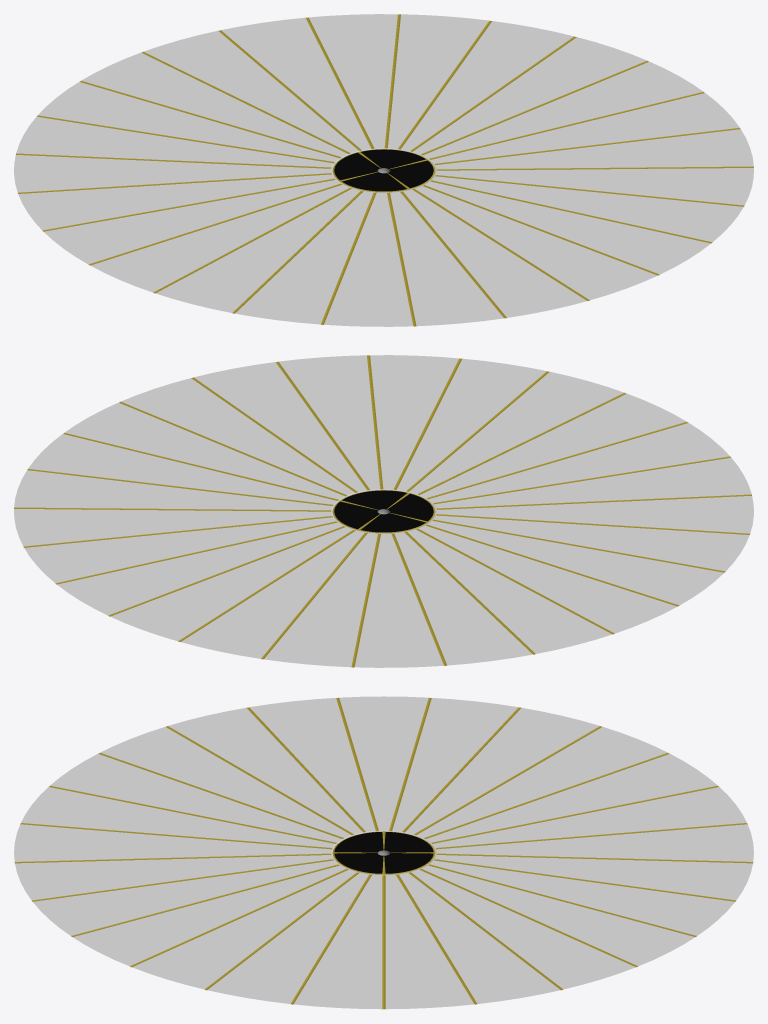
Rendered from Boss_1_Inside_The_Tower.FBX.
The picture shows the model from 3 angles, top to bottom: view 1: azimuth 30°, elevation 25°; view 2: azimuth 150°, elevation 25°; view 3: azimuth 270°, elevation 25°; orthographic projection.
Parts seen in each view (by area): view 1: baseCircle; view 2: baseCircle; view 3: baseCircle.
Boxes of the visible parts, bbox=[...] form: baseCircle: bbox=[14, 14, 753, 326]; baseCircle: bbox=[14, 355, 753, 667]; baseCircle: bbox=[14, 696, 753, 1009].
Size of the model in its own units: 3658 by 31.5 by 3658.
